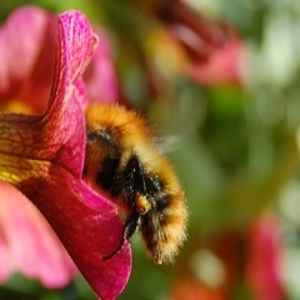bee: (86, 106, 190, 272)
